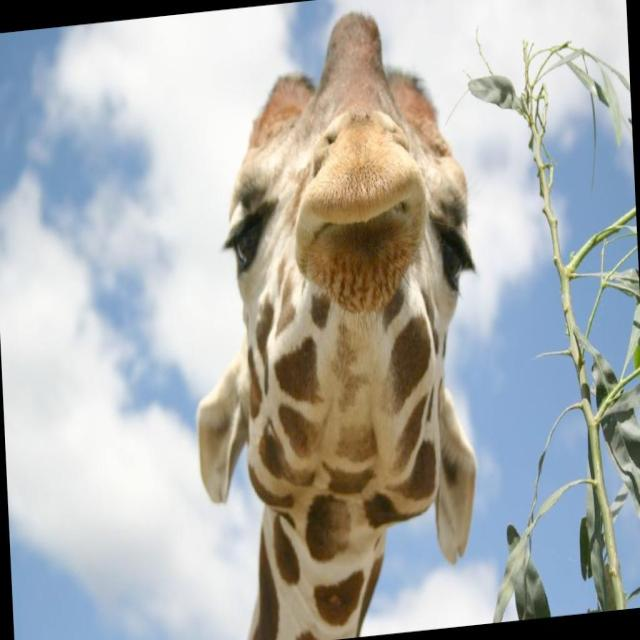Giraffe: (201, 12, 476, 640)
